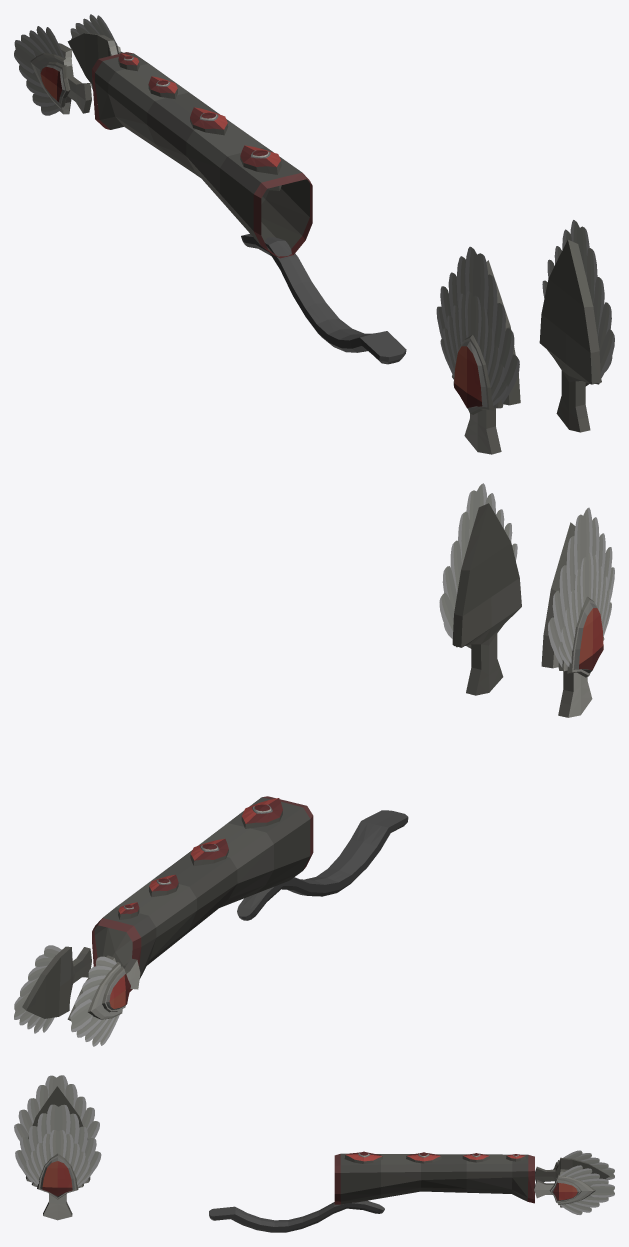
Rendered from largeCrossbowLostCrownHandle.glb.
3 renders of one model, top to bottom at view 1: azimuth 30°, elevation 25°; view 2: azimuth 150°, elevation 25°; view 3: azimuth 270°, elevation 25°, orthographic. The views are drawn at different scales.
Parts seen in each view (by area): view 1: largeCrossbowLostCrownHandle; view 2: largeCrossbowLostCrownHandle; view 3: largeCrossbowLostCrownHandle.
Part boxes in pixels (<box>): largeCrossbowLostCrownHandle: <box>14,14,614,454</box>; largeCrossbowLostCrownHandle: <box>14,483,614,1046</box>; largeCrossbowLostCrownHandle: <box>14,1075,614,1232</box>.
Size of the model in its own units: 0.1287 by 0.242 by 0.9386.
